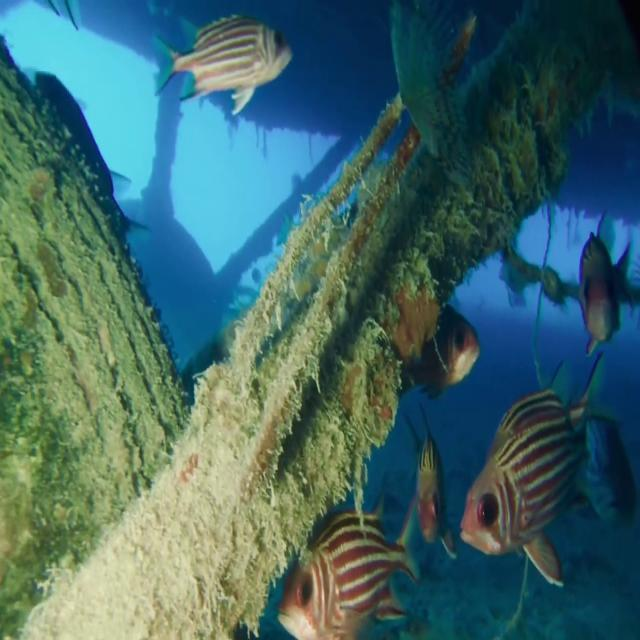Asker Baligi: (458, 349, 634, 591), (151, 12, 293, 118)
